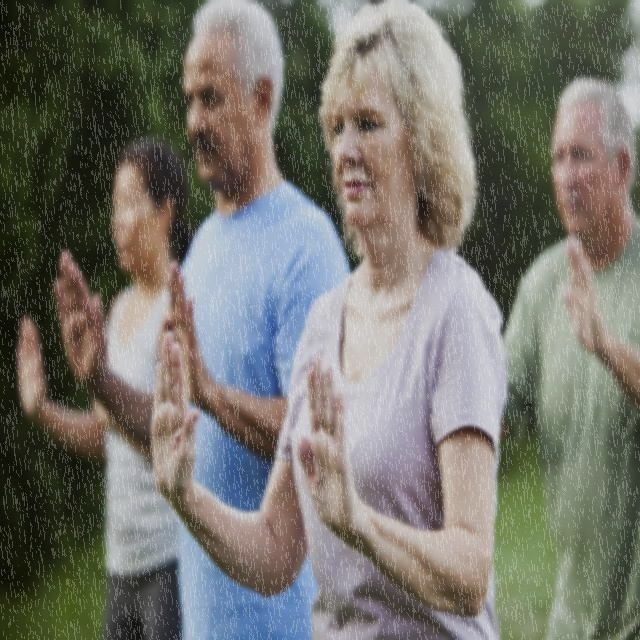pessoa: (149, 1, 511, 639), (49, 2, 350, 639), (15, 141, 186, 639), (500, 73, 640, 639)
